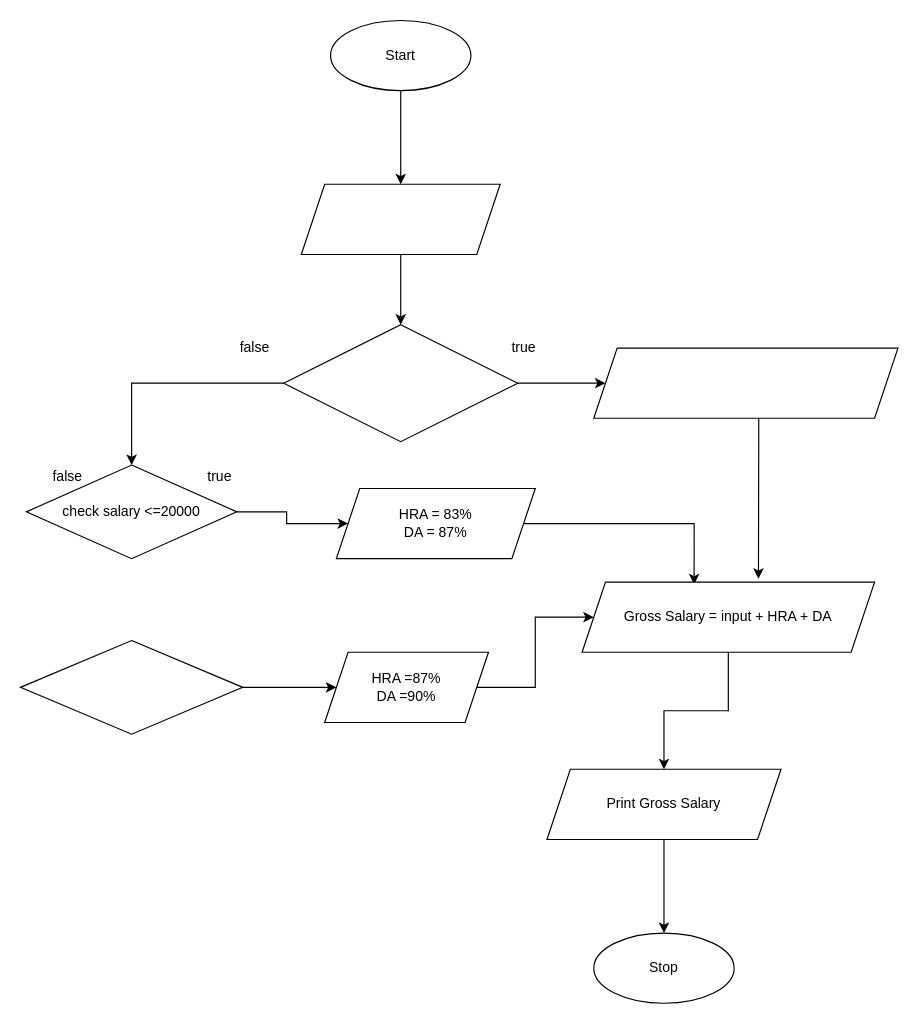
This 918x1024 diagram has some shape labels left out. The shapes that lost their labels are listed below. From the top down, each one's centre as x and y in pixels, then its label:
At point (400, 218): "input salary".
At point (400, 383): "check salary <=10000".
At point (745, 382): "HRA = 80% DA = 85%".
At point (131, 686): "check salary >20000".
